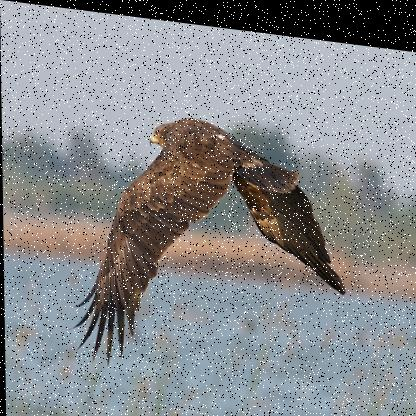Burung: (64, 89, 349, 396)
